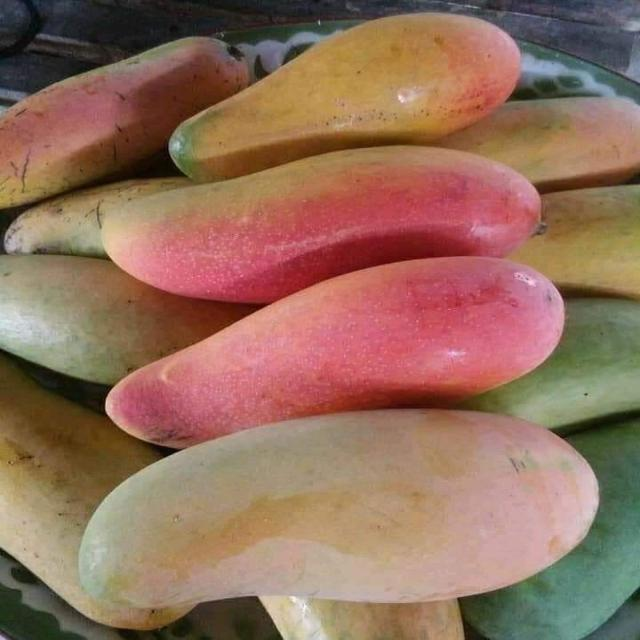mango: (80, 410, 598, 607), (107, 257, 563, 447), (103, 146, 540, 302), (170, 13, 519, 182), (0, 355, 185, 629), (0, 37, 247, 208), (461, 419, 639, 639), (0, 256, 254, 383), (458, 298, 639, 433), (439, 97, 639, 192), (5, 177, 191, 257), (510, 185, 639, 298), (261, 596, 464, 639)
